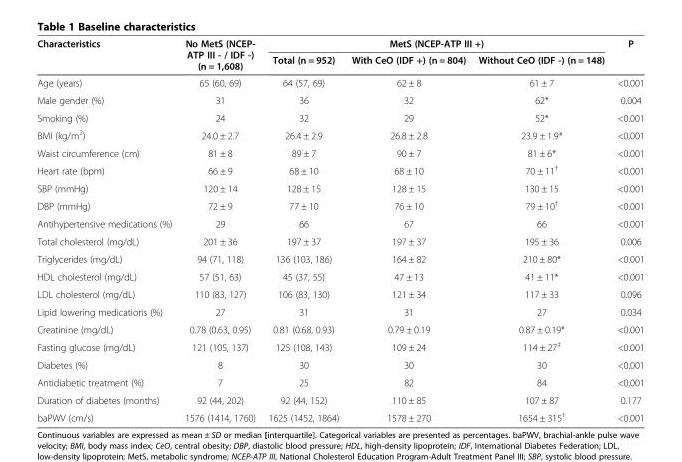table: (36, 37, 643, 423)
table column: (36, 37, 177, 423), (471, 37, 610, 423), (344, 37, 471, 423), (177, 37, 261, 423), (261, 37, 344, 423), (610, 37, 643, 423)
table column header: (36, 37, 643, 74)
table row: (36, 51, 643, 74), (36, 125, 643, 144), (36, 160, 643, 179), (36, 196, 643, 214), (36, 214, 643, 232), (36, 249, 643, 267), (36, 267, 643, 285), (36, 302, 643, 320), (36, 337, 643, 355), (36, 355, 643, 373), (36, 373, 643, 391), (36, 74, 643, 91), (36, 91, 643, 108), (36, 108, 643, 125), (36, 179, 643, 196), (36, 232, 643, 249), (36, 285, 643, 302), (36, 320, 643, 337), (36, 144, 643, 160), (36, 391, 643, 407), (36, 407, 643, 423), (36, 37, 643, 51)
table spanning cell: (36, 37, 177, 74), (261, 37, 610, 51), (177, 37, 261, 74), (610, 37, 643, 74)
